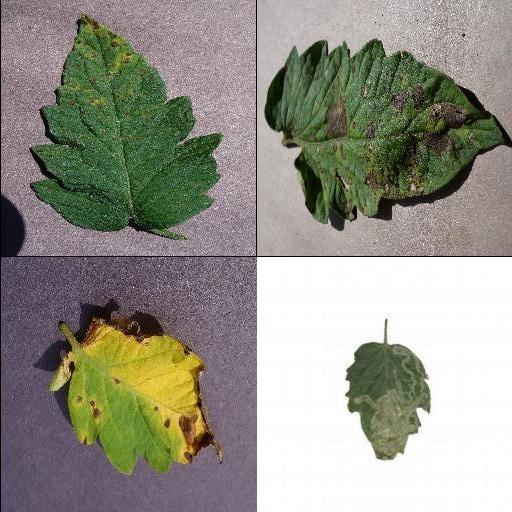Early Blight: (263, 38, 511, 224)
Leaf Miner: (343, 341, 433, 461)
Septoria: (30, 12, 224, 232), (44, 312, 219, 474)
